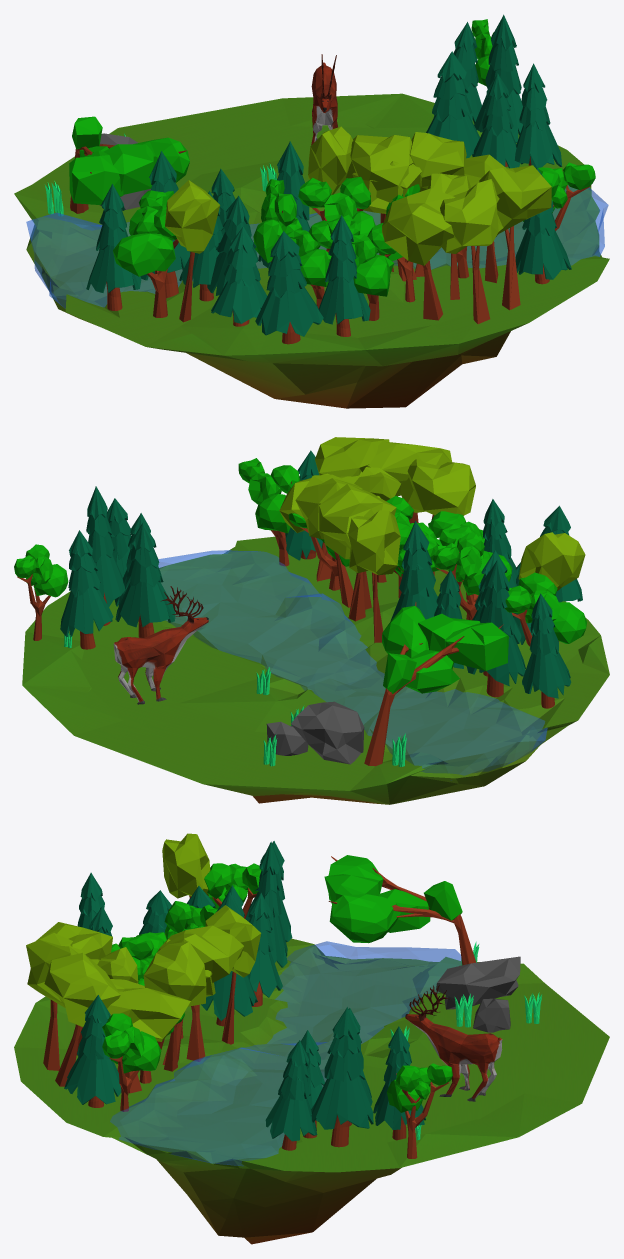
Rendered from forest2.glb.
The picture shows the model from 3 angles, top to bottom: view 1: azimuth 30°, elevation 25°; view 2: azimuth 150°, elevation 25°; view 3: azimuth 270°, elevation 25°; orthographic projection. The views are drawn at different scales.
Parts seen in each view (by area): view 1: Landscape, Mball.039, Mball.006, Cube.017, Cube.002, pine-tree.004, Cube.020, Cube.021, pine-tree.017, Cube.023, Cube.014, pine-tree.012 (+26 smaller); view 2: Landscape, Mball.039, Mball.006, Cube, pine-tree, Cube.017, pine-tree.002, Cube.013, Cube.003, pine-tree.011, Cube.014, Cube.004 (+25 smaller); view 3: Landscape, Mball.039, Mball.006, pine-tree.001, Cube, Cube.021, pine-tree.009, Cube.016, pine-tree.005, Cube.019, Cube.003, Cube.014 (+20 smaller).
Boxes of the visible parts, x1,y1,x2,y2 form: Landscape: (14,93,609,408); Mball.039: (26,185,608,308); Mball.006: (69,116,189,205); Cube.017: (382,188,455,320); Cube.002: (113,190,178,317); pine-tree.004: (255,231,323,344); Cube.020: (440,179,503,323); Cube.021: (479,165,551,310); pine-tree.017: (318,215,370,336); Cube.023: (165,180,220,322); Cube.014: (346,135,413,271); pine-tree.012: (211,226,267,326); Landscape: (22,536,609,804); Mball.039: (158,550,547,780); Mball.006: (382,606,508,693); Cube: (113,586,208,704); pine-tree: (115,522,175,637); Cube.017: (400,459,475,575); pine-tree.002: (60,530,113,649); Cube.013: (348,510,400,642); Cube.003: (291,701,364,764); pine-tree.011: (522,593,571,708); Cube.014: (319,483,396,621); Cube.004: (238,458,300,566); Landscape: (14,938,609,1244); Mball.039: (110,941,461,1166); Mball.006: (324,855,462,943); pine-tree.001: (311,1007,373,1147); Cube: (405,985,502,1101); Cube.021: (44,952,120,1086); pine-tree.009: (64,995,121,1107); Cube.016: (143,941,206,1071); pine-tree.005: (265,1040,317,1150); Cube.019: (107,979,190,1093); Cube.003: (436,956,520,1009); Cube.014: (157,925,244,1061).
Size of the model in its own units: 9.87 by 5.7 by 10.02.
Materials: 9 (2 with a texture image).
